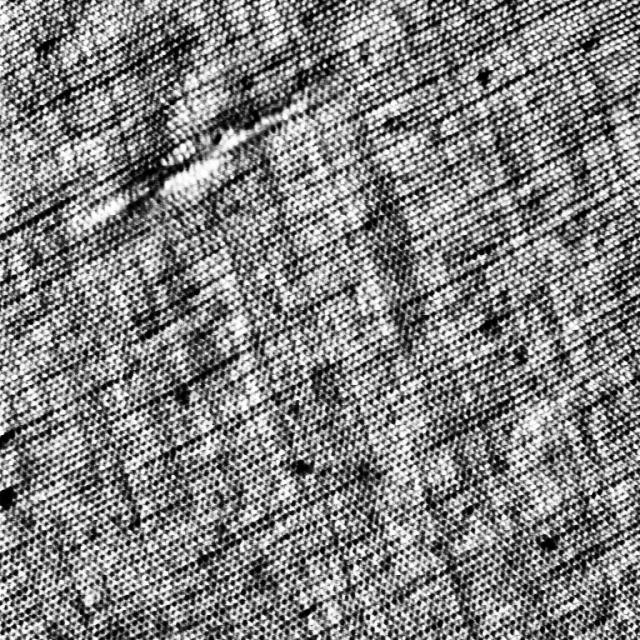Stitch: (51, 72, 345, 234)
